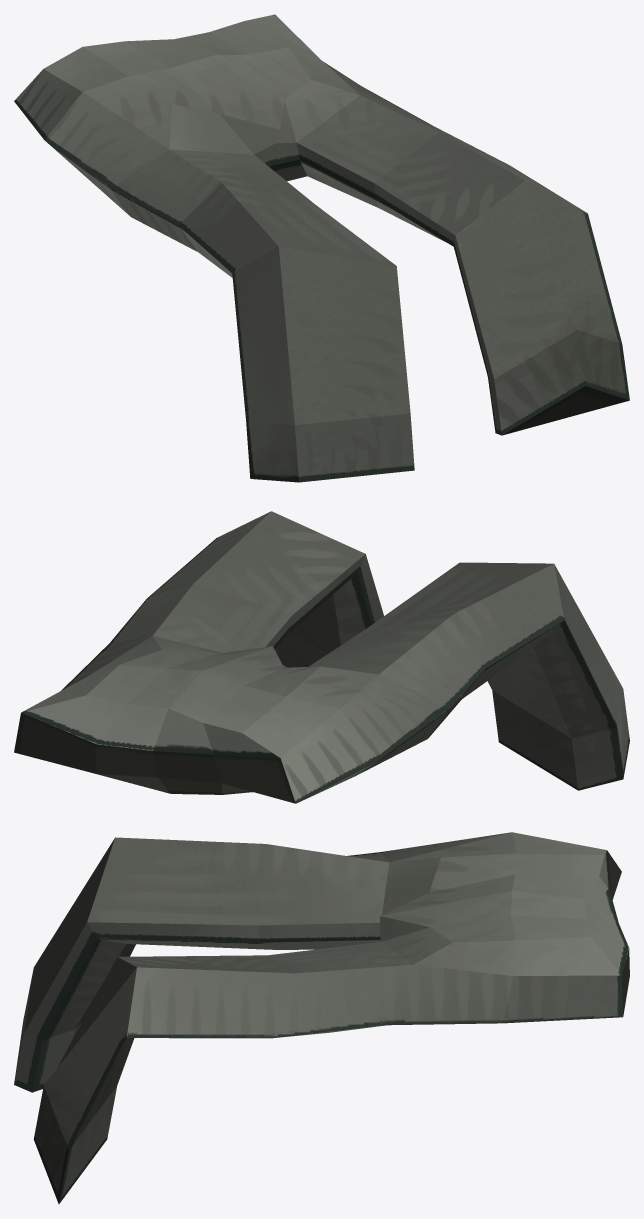
The model's file is Shtany2.obj.
3 renders of one model, top to bottom at view 1: azimuth 30°, elevation 25°; view 2: azimuth 150°, elevation 25°; view 3: azimuth 270°, elevation 25°, orthographic. The views are drawn at different scales.
Visible parts, largest first — view 1: Cube.001; view 2: Cube.001; view 3: Cube.001.
Boxes of the visible parts, x1,y1,x2,y2 form: Cube.001: [14, 14, 629, 482]; Cube.001: [14, 511, 629, 803]; Cube.001: [14, 832, 629, 1204].
Size of the model in its own units: 3.23 by 1.91 by 4.69.
Materials: 1 (1 with a texture image).
